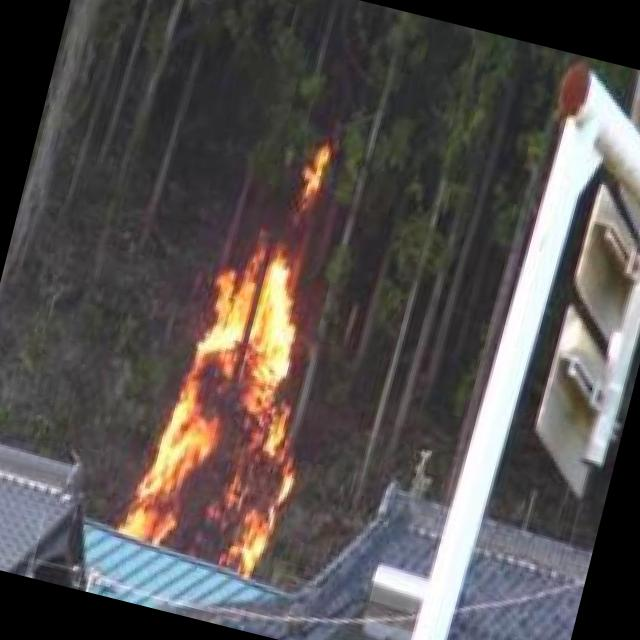Fire: (117, 213, 350, 578), (286, 135, 335, 229)
